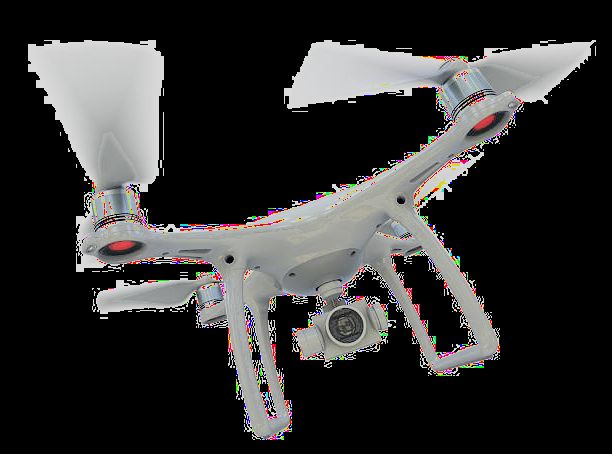Drone: (24, 30, 595, 442)
